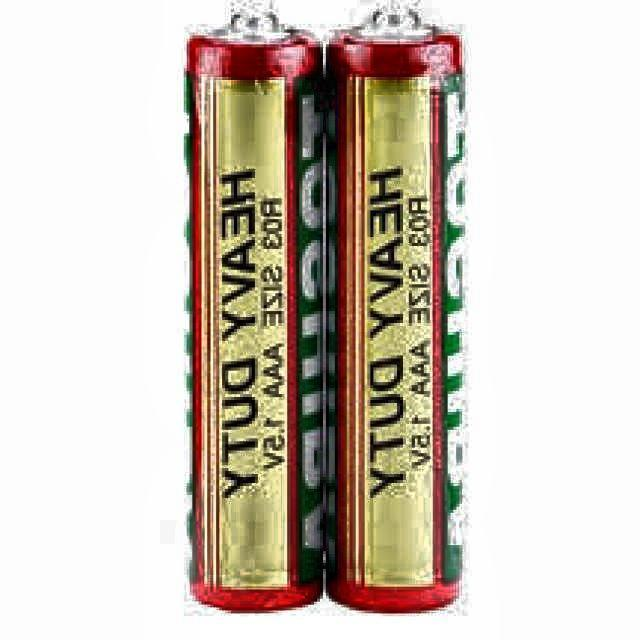battery: (187, 3, 326, 612), (329, 5, 462, 607)
